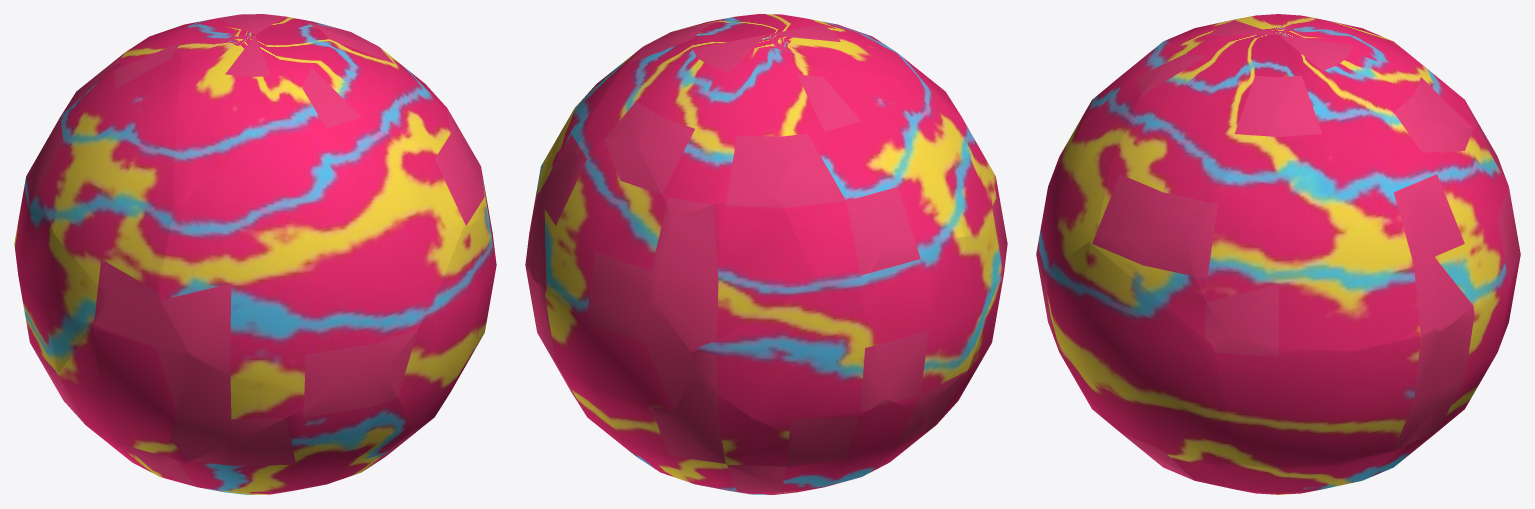
File: ball_shards.glb
3 renders of one model, left to right at view 1: azimuth 30°, elevation 25°; view 2: azimuth 150°, elevation 25°; view 3: azimuth 270°, elevation 25°, orthographic.
Parts seen in each view (by area): view 1: shard_06, shard_01, shard_13, shard_09, shard_14, shard_21, shard_10, shard_08, shard_25, shard_11, shard_15, shard_24 (+2 smaller); view 2: shard_11, shard_01, shard_22, shard_08, shard_07, shard_19, shard_12, shard_15, shard_02, shard_17, shard_18, shard_20 (+5 smaller); view 3: shard_05, shard_10, shard_13, shard_03, shard_07, shard_20, shard_06, shard_11, shard_24, shard_12, shard_16, shard_21 (+1 smaller).
Part boxes in pixels (x1,y1,x2,y2): shard_06: [156, 104, 462, 392]; shard_01: [38, 57, 179, 295]; shard_13: [225, 23, 469, 211]; shard_09: [50, 291, 191, 470]; shard_14: [149, 373, 413, 494]; shard_21: [170, 41, 317, 222]; shard_10: [383, 216, 496, 433]; shard_08: [15, 172, 109, 374]; shard_25: [162, 357, 329, 465]; shard_11: [100, 14, 253, 72]; shard_15: [24, 63, 141, 188]; shard_24: [459, 149, 490, 229]; shard_11: [631, 48, 823, 217]; shard_01: [823, 70, 998, 243]; shard_22: [692, 282, 884, 435]; shard_08: [859, 233, 1002, 408]; shard_07: [531, 131, 672, 302]; shard_19: [655, 194, 816, 352]; shard_12: [533, 280, 695, 418]; shard_15: [774, 105, 885, 293]; shard_02: [772, 397, 925, 492]; shard_17: [561, 373, 785, 494]; shard_18: [668, 371, 796, 483]; shard_20: [575, 35, 732, 157]; shard_05: [1186, 137, 1434, 350]; shard_10: [1044, 243, 1240, 476]; shard_13: [1098, 27, 1313, 234]; shard_03: [1212, 327, 1440, 470]; shard_07: [1420, 124, 1513, 332]; shard_20: [1265, 48, 1422, 193]; shard_06: [1036, 47, 1164, 294]; shard_11: [1291, 15, 1480, 135]; shard_24: [1088, 228, 1227, 344]; shard_12: [1437, 217, 1520, 404]; shard_16: [1192, 445, 1406, 494]; shard_21: [1157, 14, 1295, 66].
Bounding box in the file's own units: 0.06 × 0.06 × 0.06.
Materials: 1 (1 with a texture image).
